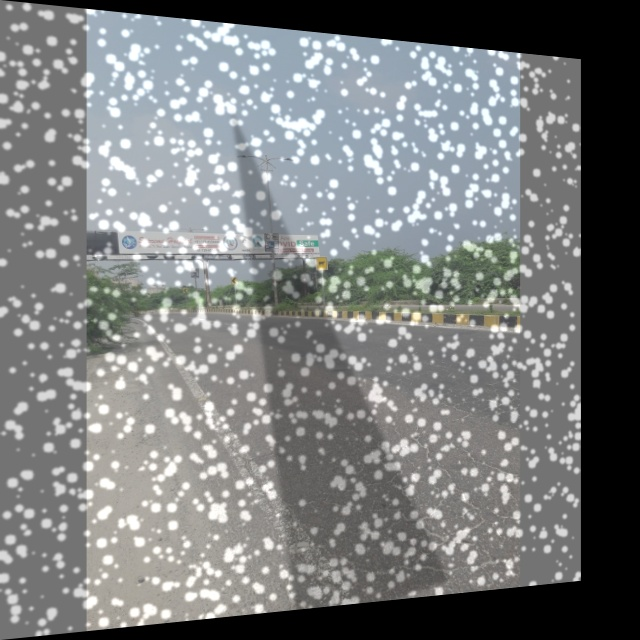Cattle: (313, 254, 331, 271)
